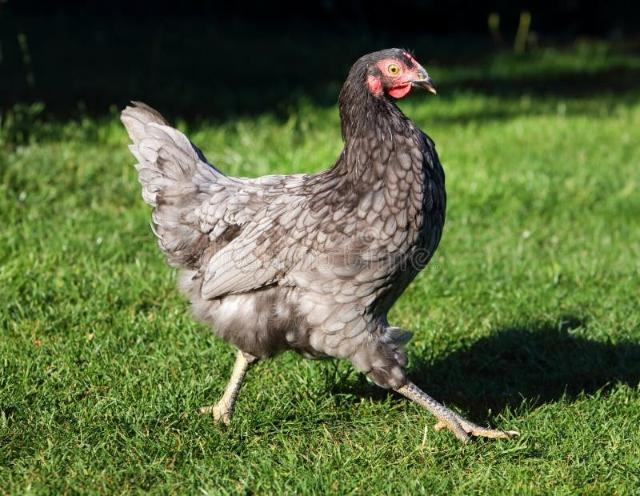Chicken: (120, 48, 521, 446)
